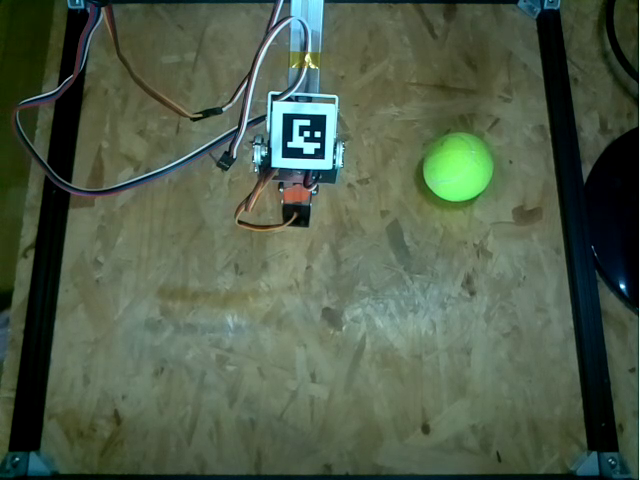tennis_ball: (423, 130, 494, 201)
